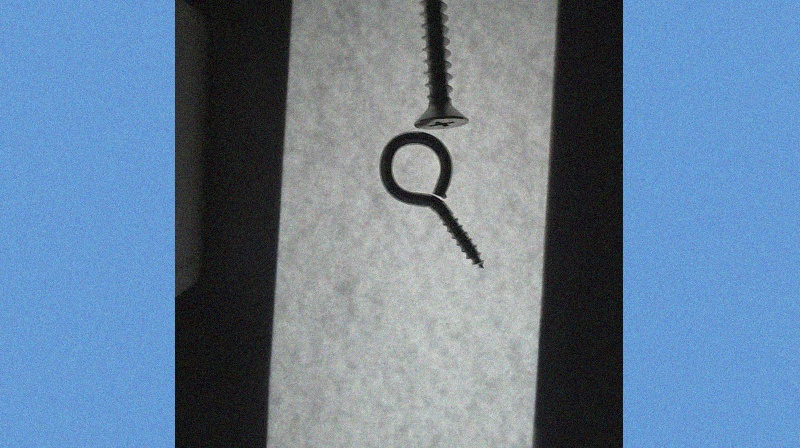O001: (381, 128, 487, 268)
S001: (410, 0, 470, 129)
